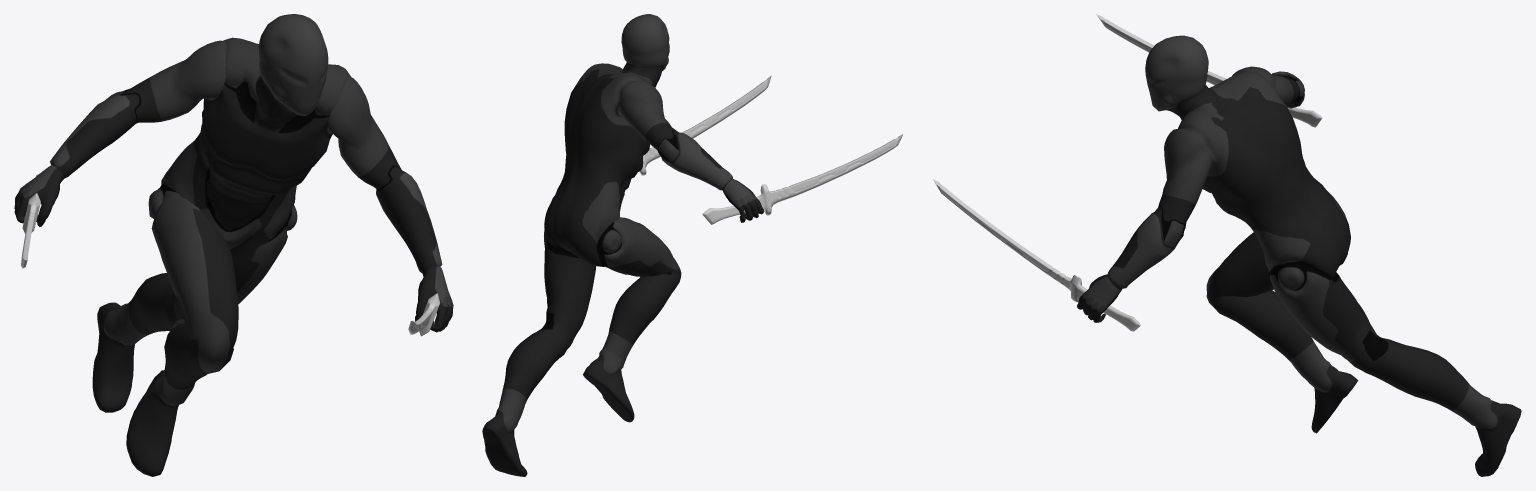
3 views of the same model, side by side, from view 1: azimuth 30°, elevation 25°; view 2: azimuth 150°, elevation 25°; view 3: azimuth 270°, elevation 25° (orthographic). The views are drawn at different scales.
Visible parts, largest first — view 1: Cyborg_Ninja_Killer, Sword_l001, Sword_l; view 2: Cyborg_Ninja_Killer, Sword_l001, Sword_l; view 3: Cyborg_Ninja_Killer, Sword_l, Sword_l001.
Boxes of the visible parts, box(x1,y1,x2,y2) form: Cyborg_Ninja_Killer: box(14, 14, 453, 476); Sword_l001: box(21, 173, 40, 268); Sword_l: box(408, 293, 440, 336); Cyborg_Ninja_Killer: box(482, 14, 764, 476); Sword_l001: box(702, 134, 903, 224); Sword_l: box(636, 75, 771, 175); Cyborg_Ninja_Killer: box(1077, 35, 1521, 476); Sword_l: box(933, 179, 1140, 331); Sword_l001: box(1096, 14, 1322, 127).
Size of the model in its own units: 139 by 157 by 193.
